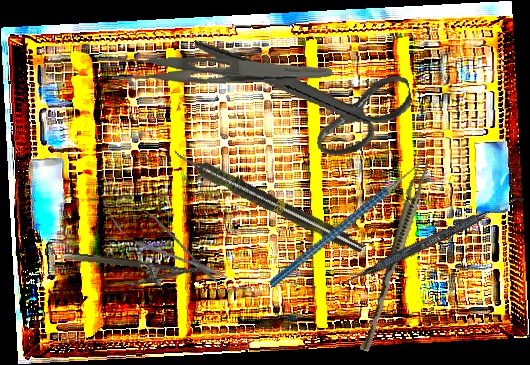Chopper: (243, 147, 449, 288)
Dressing Forceps: (99, 41, 333, 92)
Handpiece: (169, 144, 367, 258)
Iris Scissors: (194, 2, 420, 178)
Micro Scissor: (96, 190, 234, 296)
Needle Holder: (60, 250, 205, 295)
Spatula Surgical: (337, 189, 525, 293)
Tissue Forceps: (359, 158, 431, 355)
